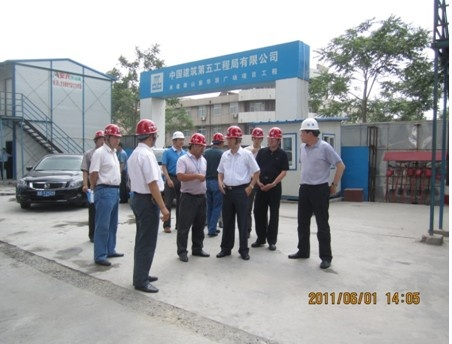red: (134, 117, 159, 147), (223, 125, 244, 150), (102, 123, 120, 147), (189, 132, 207, 156), (265, 125, 283, 148), (249, 127, 265, 147), (92, 129, 105, 147), (211, 131, 225, 147)
white: (297, 117, 318, 143), (171, 130, 184, 148)
